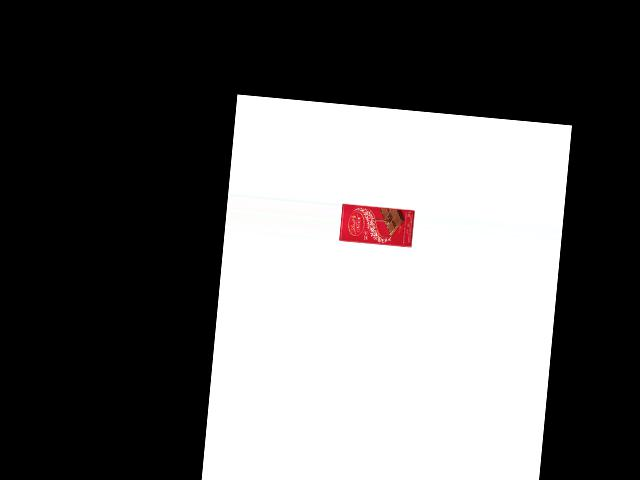chocolate: (339, 199, 414, 248)
